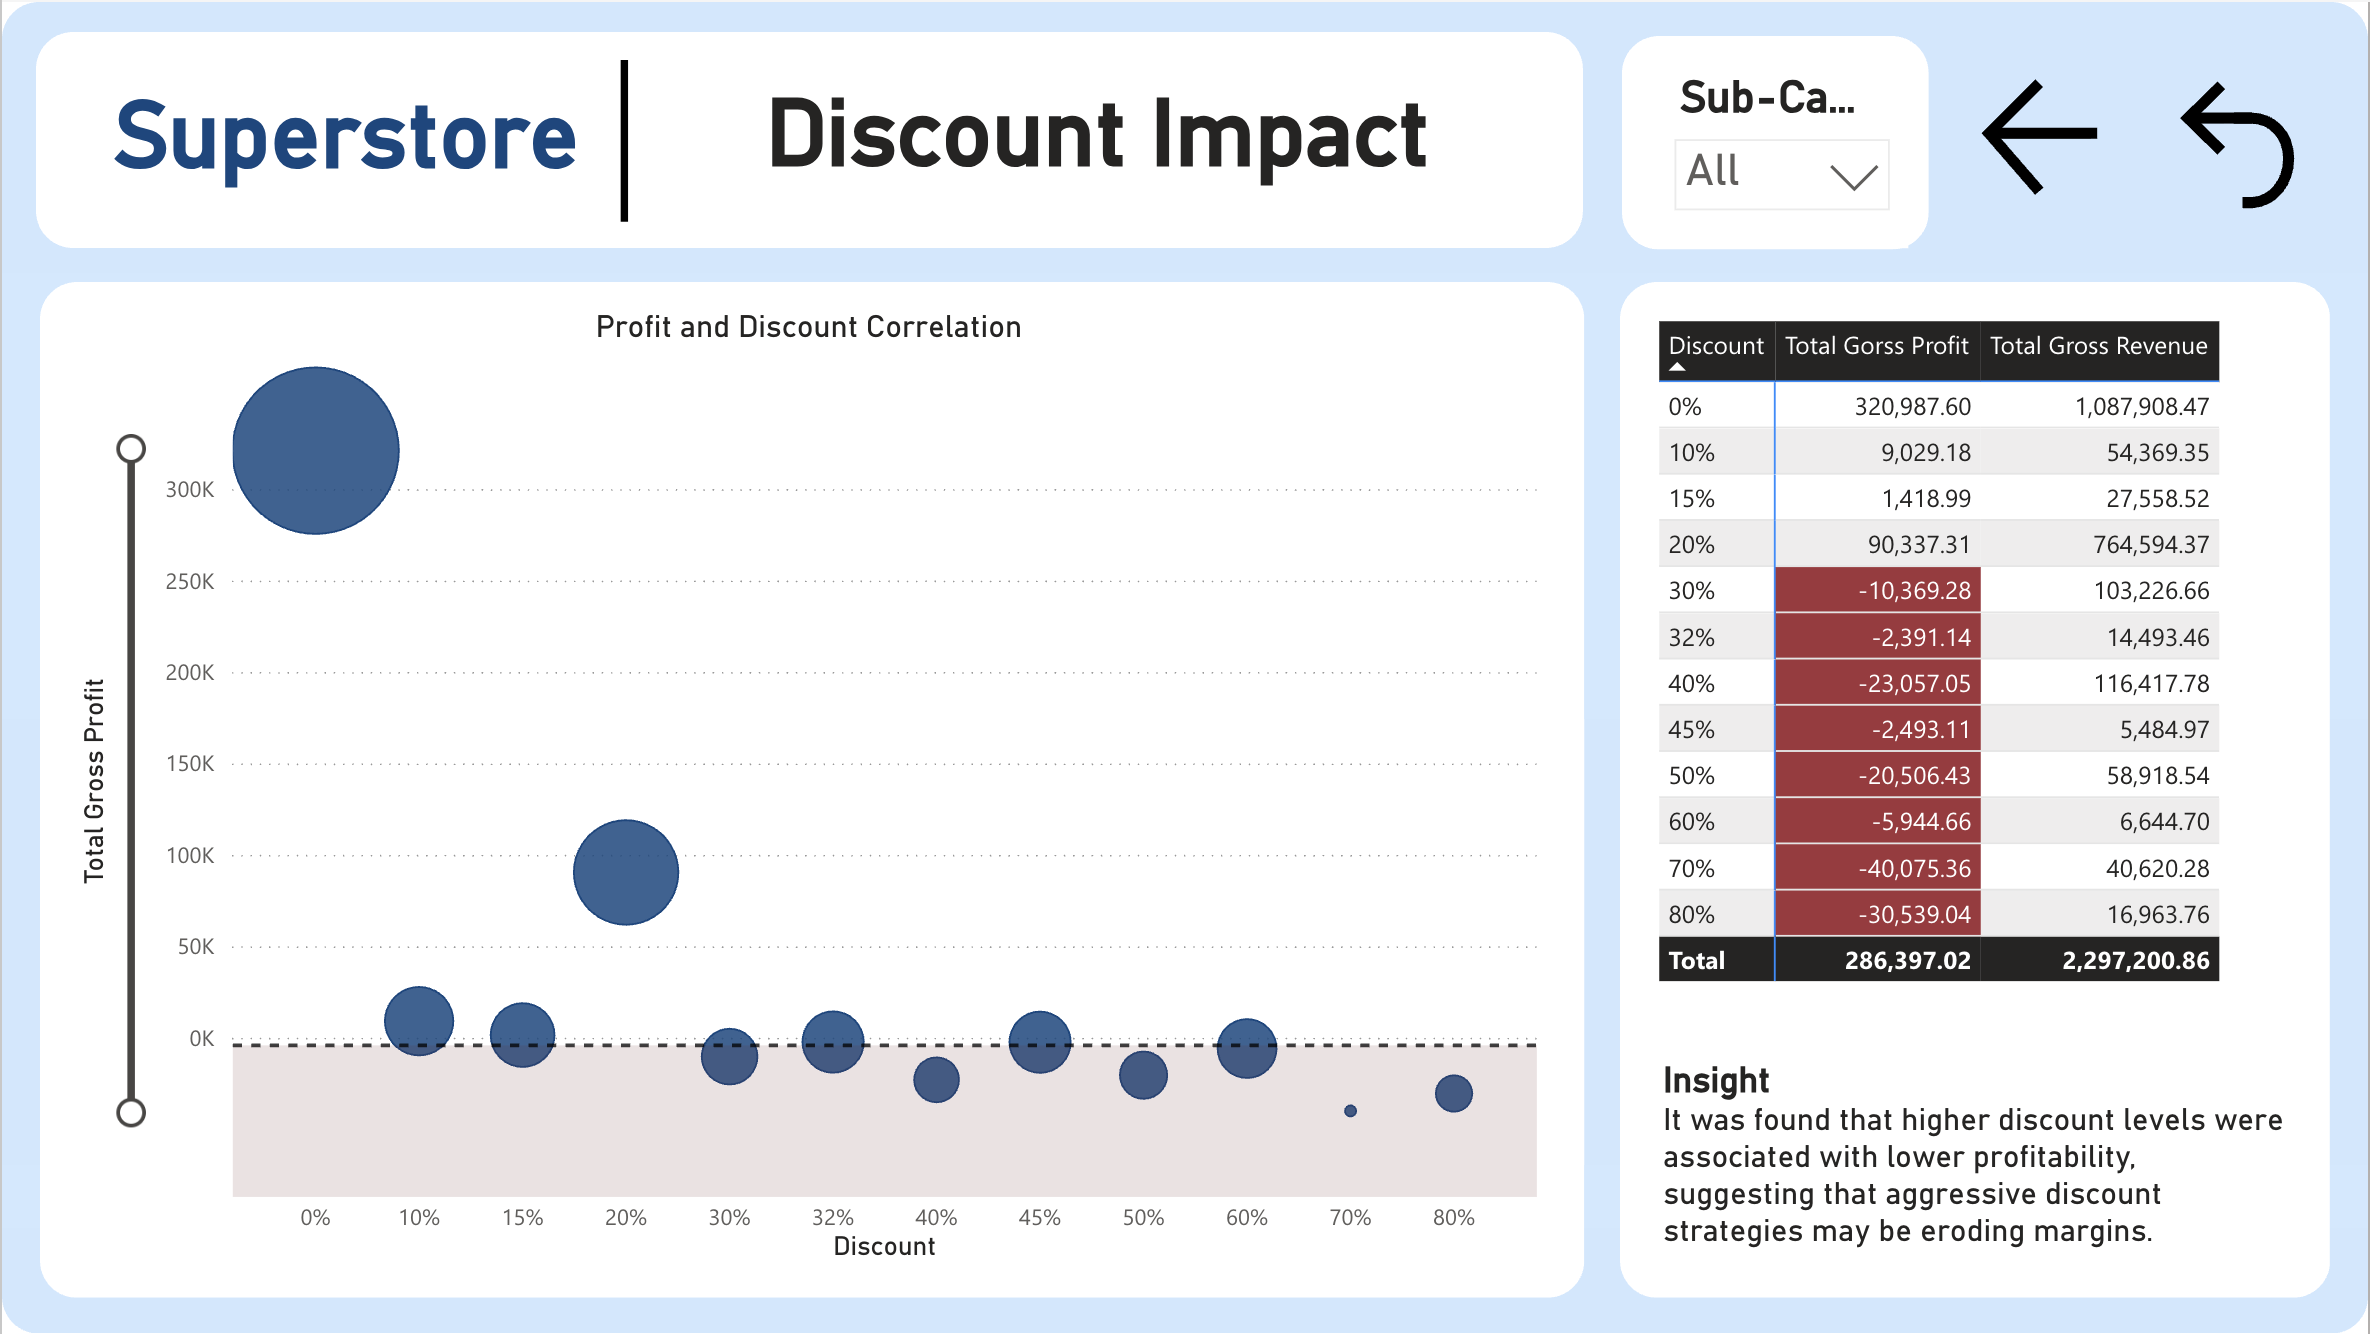

The page's visual inventory and layout, read from the dashboard file:
{"tool":"powerbi","page":{"name":"Discount Impact","canvas":[1280,720],"ordinal":3},"visuals":[{"type":"shape","box":[0,0,1280,720.4],"z":0},{"type":"shape","box":[18.8,16.7,836.9,116.9],"z":1000},{"type":"textbox","box":[36.2,43,299,86.1],"z":2000},{"type":"shape","box":[283.8,31.3,106.4,87.7],"z":3000},{"type":"shape","box":[20.1,151.9,835.5,549.5],"z":4000},{"type":"actionButton","box":[1168.3,35.7,84.9,82.7],"z":5000},{"type":"textbox","box":[350.5,42.1,484.8,86.1],"z":6000},{"type":"shape","box":[876.6,17.9,165.9,115.5],"z":7000},{"type":"slicer","fields":{"Values":["Sample - Superstore.Sub-Category"]},"box":[894.5,35.8,136.6,97.6],"z":8000},{"type":"actionButton","box":[1066.9,35.8,82.9,74.8],"z":9000},{"type":"shape","box":[875.7,151.9,384.2,549.5],"z":10000},{"type":"textbox","box":[893.5,569.6,350.7,116.2],"z":11000},{"type":"scatterChart","title":"Profit and Discount Correlation","fields":{"Size":["Sample - Superstore.Total Gorss Profit"],"X":["Sample - Superstore.Discount"],"Y":["Sample - Superstore.Total Gorss Profit"]},"box":[38,167.5,797.5,518.3],"z":12000},{"type":"pivotTable","fields":{"Rows":["Sample - Superstore.Discount"],"Values":["Sample - Superstore.Total Gorss Profit","Sample - Superstore.Total Gross Revenue"]},"box":[891.3,167.5,319.4,375.3],"z":13000}]}

Visuals, with their boxes in screenshot pixels (x1, y1, x2, y2), scaled from the page's 1280x720 canvas onto the 2370x1334 screenshot:
shape: l=0, t=0, r=2369, b=1333
shape: l=35, t=31, r=1584, b=248
textbox: l=67, t=80, r=621, b=239
shape: l=525, t=58, r=722, b=220
shape: l=37, t=281, r=1584, b=1300
actionButton: l=2163, t=66, r=2320, b=219
textbox: l=649, t=78, r=1547, b=238
shape: l=1623, t=33, r=1930, b=247
slicer - Sample - Superstore.Sub-Category: l=1656, t=66, r=1909, b=247
actionButton: l=1975, t=66, r=2129, b=205
shape: l=1621, t=281, r=2333, b=1300
textbox: l=1654, t=1055, r=2304, b=1271
"Profit and Discount Correlation" scatterChart: l=70, t=310, r=1547, b=1271
pivotTable - Sample - Superstore.Discount x Sample - Superstore.Total Gorss Profit: l=1650, t=310, r=2242, b=1006
